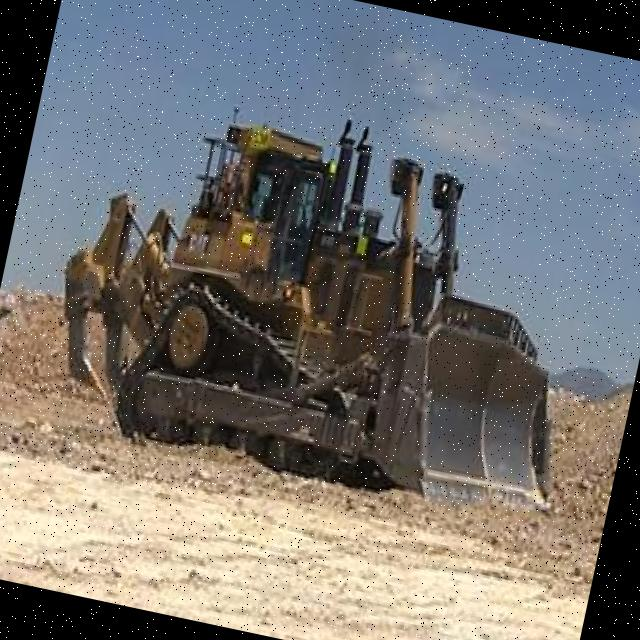Bulldozer: (22, 46, 633, 556)
